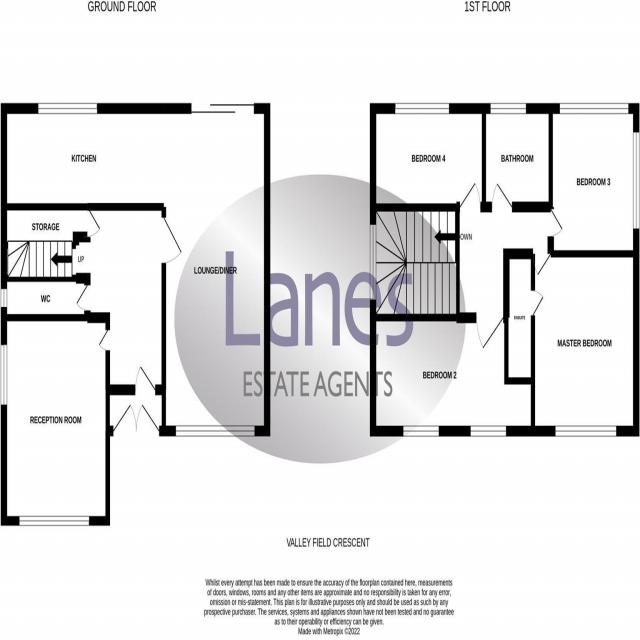DOOR: (475, 311, 504, 350), (161, 216, 183, 265), (459, 181, 481, 213), (491, 182, 513, 213), (134, 364, 156, 395), (532, 249, 552, 277), (76, 284, 91, 311), (531, 289, 544, 317), (98, 328, 110, 352)
ROOM: (0, 101, 271, 437), (0, 312, 110, 526), (370, 312, 535, 437), (531, 250, 640, 437), (547, 103, 640, 258), (369, 102, 487, 213)
WINDOW: (175, 424, 256, 438), (559, 102, 629, 115), (18, 515, 90, 527), (37, 102, 99, 115), (632, 131, 640, 230), (555, 425, 617, 437), (394, 102, 450, 115), (369, 223, 377, 301), (0, 343, 8, 406), (490, 102, 527, 115), (470, 425, 507, 437), (403, 425, 439, 437), (0, 288, 7, 308)
